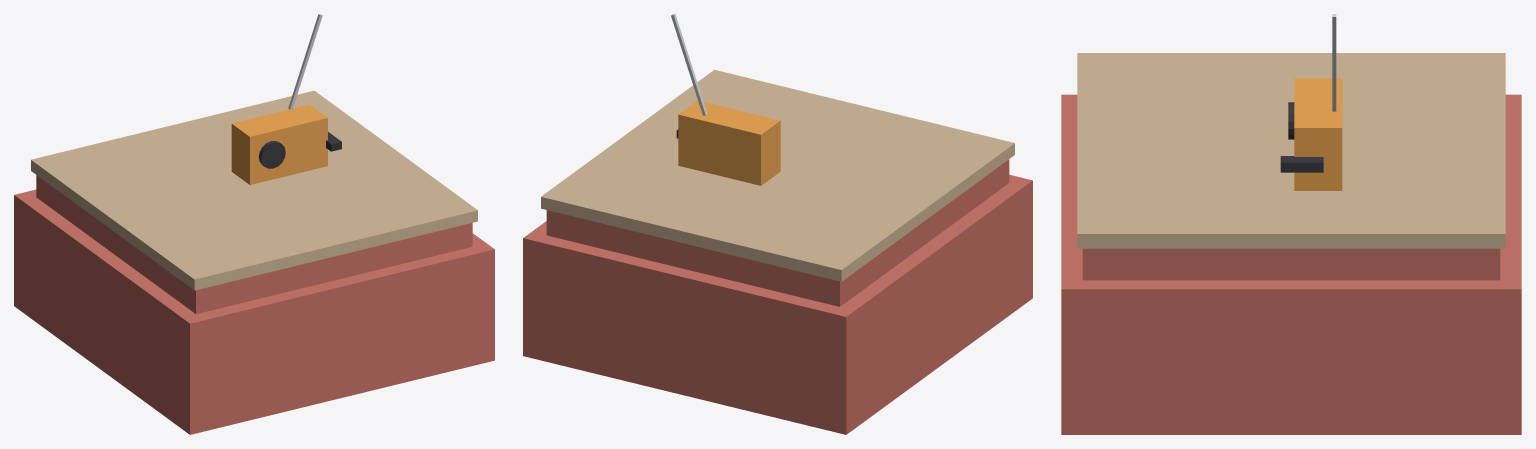
File: kotatsu.glb
The picture shows the model from 3 angles, left to right: view 1: azimuth 30°, elevation 25°; view 2: azimuth 150°, elevation 25°; view 3: azimuth 270°, elevation 25°; orthographic projection. The views are drawn at different scales.
Parts seen in each view (by area): view 1: kotatsu; view 2: kotatsu; view 3: kotatsu.
Part boxes in pixels (x1=…): kotatsu: x1=14, y1=14, x2=494, y2=434; kotatsu: x1=523, y1=14, x2=1032, y2=434; kotatsu: x1=1061, y1=14, x2=1521, y2=434.
Size of the model in its own units: 0.86 by 0.7738 by 0.86.
